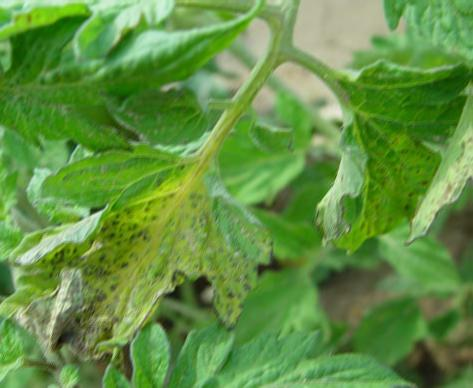Tomato leaf bacterial spot: (0, 126, 276, 370), (301, 30, 473, 288), (84, 305, 417, 388)
